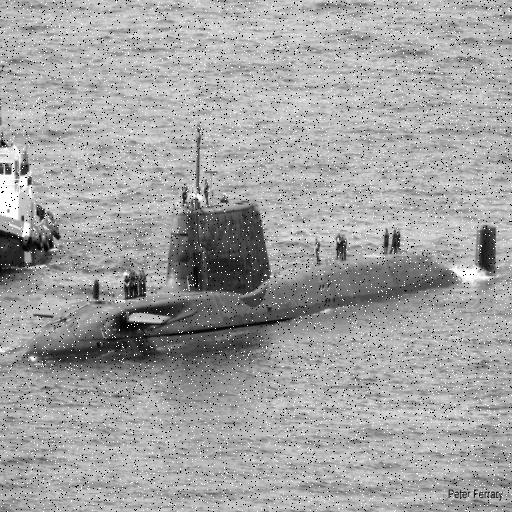submarine: (26, 120, 505, 364)
